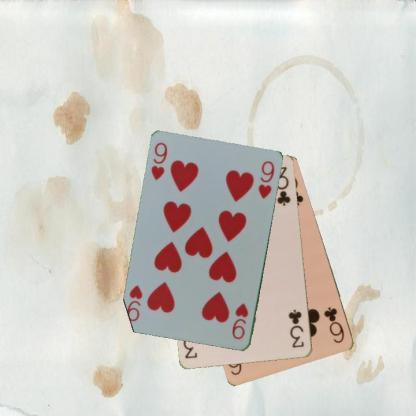3c: (286, 307, 306, 349)
6c: (321, 304, 346, 344)
9h: (148, 140, 168, 182), (230, 300, 250, 341)
